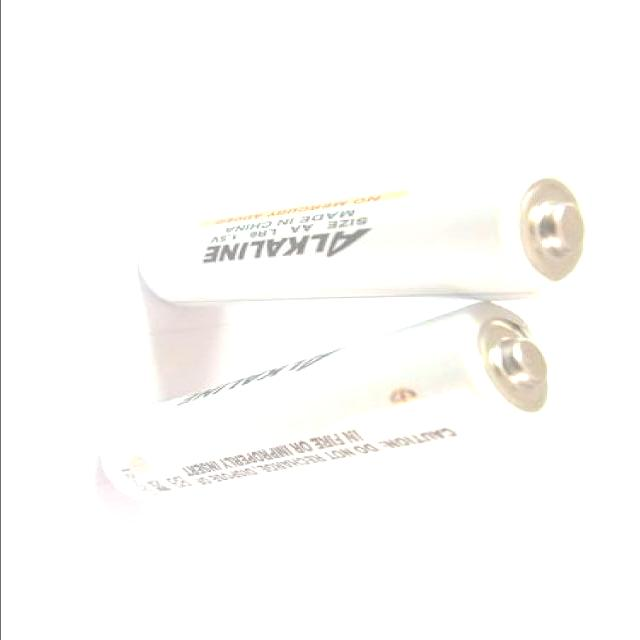AAA: (94, 303, 560, 506), (119, 161, 597, 306)
